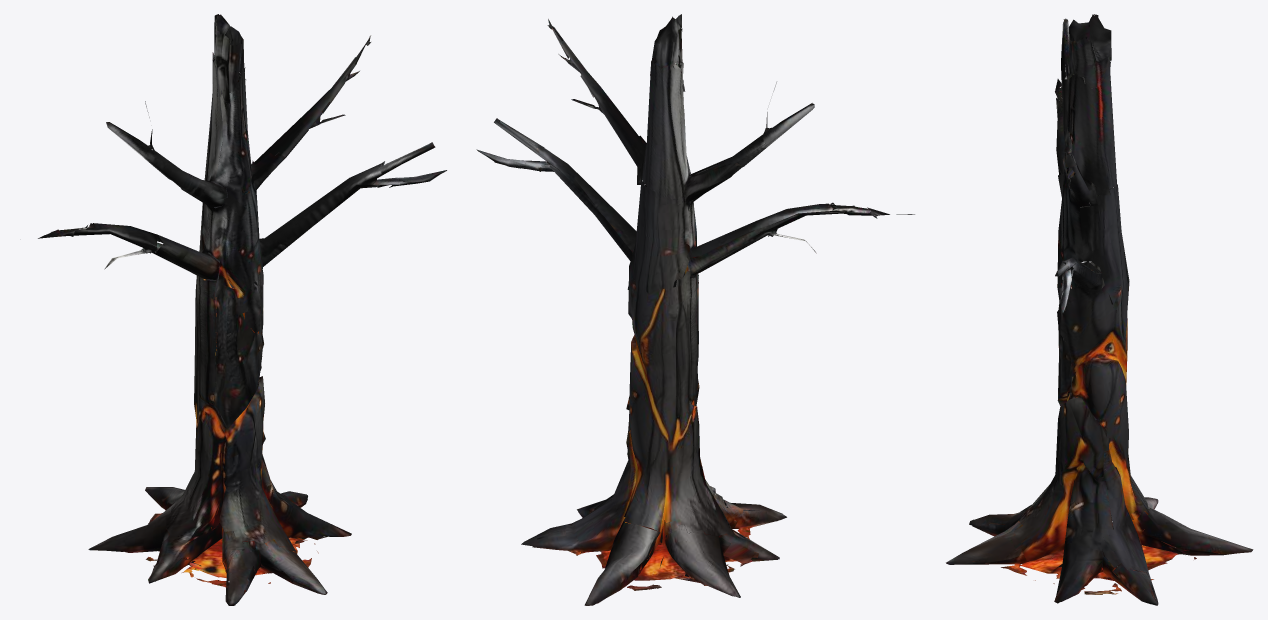
The model's file is deadtree.glb.
The picture shows the model from 3 angles, left to right: view 1: azimuth 30°, elevation 25°; view 2: azimuth 150°, elevation 25°; view 3: azimuth 270°, elevation 25°; orthographic projection.
Visible parts, largest first — view 1: model; view 2: model; view 3: model.
Boxes of the visible parts, x1,y1,x2,y2 form: model: [38, 14, 446, 605]; model: [476, 14, 914, 605]; model: [946, 14, 1253, 605].
Size of the model in its own units: 0.8525 by 1 by 0.5213.
1 material, 1 textured.
